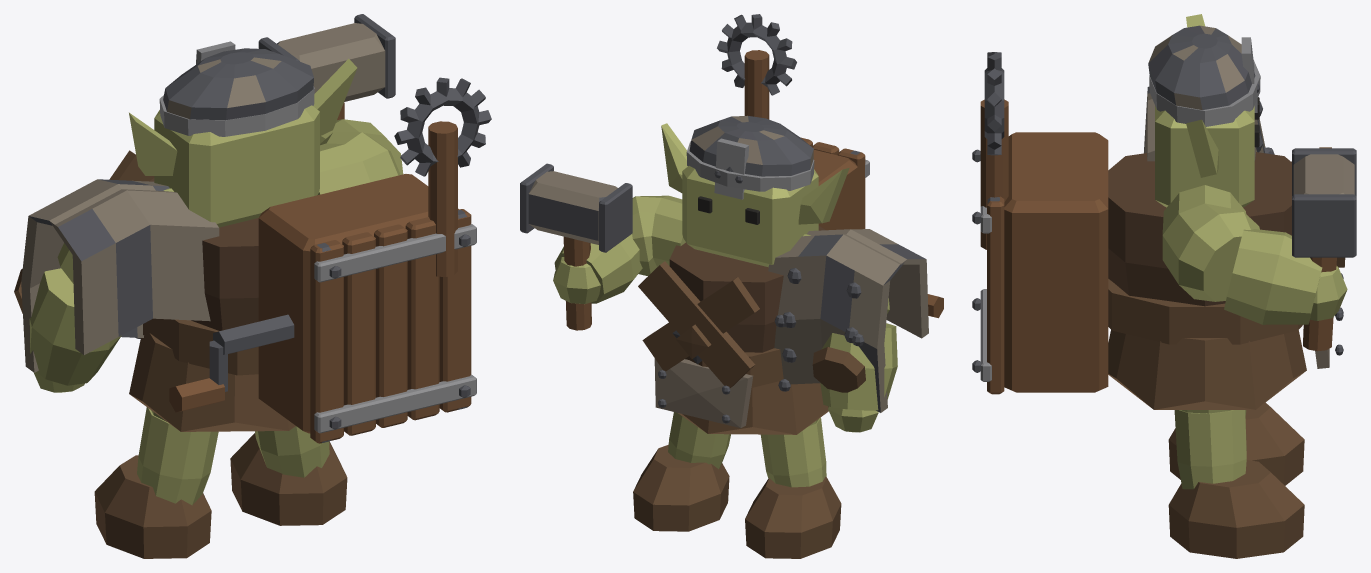
The model's file is host_04.glb.
3 views of the same model, side by side, from view 1: azimuth 30°, elevation 25°; view 2: azimuth 150°, elevation 25°; view 3: azimuth 270°, elevation 25° (orthographic). The views are drawn at different scales.
Parts seen in each view (by area): view 1: V6 scrap single broad curved rusty rectangular shoulder shel, Actual crooked scrap backpack, Observed face, V6 source fitted rounded metal cap, V6 scrap source squat worn leather boot L, Leather ragged skirt, V6 scrap source squat worn leather boot R, Tailored continuous bodice, V6 scrap actual rear backpack timber board, V6 scrap source broad forearm L, V6 scrap source short thick calf L, V6 scrap actual rear backpack timber board.001 (+20 smaller); view 2: V6 scrap single broad curved rusty rectangular shoulder shel, Observed face, V6 scrap source squat worn leather boot L, V6 scrap source squat worn leather boot R, Tailored continuous bodice, V6 source fitted rounded metal cap, Crossed leather baldric R, V6 scrap solid rectangular rusty steel hammer head, V6 scrap source riveted front loincloth sheetmetal, Leather ragged skirt, V6 scrap source short thick calf L, V6 scrap source broad upper arm R (+20 smaller); view 3: Actual crooked scrap backpack, Leather ragged skirt, Tailored continuous bodice, V6 scrap source squat worn leather boot R, V6 scrap source broad upper arm R, V6 scrap source broad forearm R, V6 source fitted rounded metal cap, Observed face, Continuous leather waist belt, V6 scrap source short thick calf R, V6 scrap hammer worn forged striking face.001, V6 scrap source squat worn leather boot L (+12 smaller).
Part boxes in pixels (x1=…): V6 scrap single broad curved rusty rectangular shoulder shel: x1=21, y1=179, x2=219, y2=372; Actual crooked scrap backpack: x1=258, y1=174, x2=458, y2=433; Observed face: x1=154, y1=105, x2=319, y2=227; V6 source fitted rounded metal cap: x1=163, y1=48, x2=313, y2=120; V6 scrap source squat worn leather boot L: x1=94, y1=455, x2=211, y2=558; Leather ragged skirt: x1=129, y1=333, x2=295, y2=431; V6 scrap source squat worn leather boot R: x1=230, y1=433, x2=347, y2=525; Tailored continuous bodice: x1=149, y1=178, x2=258, y2=330; V6 scrap actual rear backpack timber board: x1=310, y1=240, x2=343, y2=443; V6 scrap source broad forearm L: x1=29, y1=268, x2=121, y2=385; V6 scrap source short thick calf L: x1=137, y1=407, x2=218, y2=505; V6 scrap actual rear backpack timber board.001: x1=342, y1=232, x2=375, y2=435; V6 scrap single broad curved rusty rectangular shoulder shel: x1=768, y1=229, x2=928, y2=412; Observed face: x1=682, y1=166, x2=818, y2=267; V6 scrap source squat worn leather boot L: x1=745, y1=476, x2=841, y2=558; V6 scrap source squat worn leather boot R: x1=633, y1=444, x2=729, y2=531; Tailored continuous bodice: x1=669, y1=226, x2=825, y2=352; V6 source fitted rounded metal cap: x1=689, y1=115, x2=813, y2=176; Crossed leather baldric R: x1=638, y1=261, x2=755, y2=387; V6 scrap solid rectangular rusty steel hammer head: x1=528, y1=171, x2=617, y2=244; V6 scrap source riveted front loincloth sheetmetal: x1=654, y1=358, x2=753, y2=428; Leather ragged skirt: x1=678, y1=381, x2=828, y2=434; V6 scrap source short thick calf L: x1=760, y1=417, x2=826, y2=487; V6 scrap source broad upper arm R: x1=632, y1=195, x2=685, y2=275; Actual crooked scrap backpack: x1=1004, y1=132, x2=1108, y2=392; Leather ragged skirt: x1=1108, y1=330, x2=1306, y2=409; Tailored continuous bodice: x1=1108, y1=152, x2=1291, y2=306; V6 scrap source squat worn leather boot R: x1=1168, y1=460, x2=1304, y2=558; V6 scrap source broad upper arm R: x1=1162, y1=185, x2=1259, y2=301; V6 scrap source broad forearm R: x1=1224, y1=229, x2=1322, y2=324; V6 source fitted rounded metal cap: x1=1148, y1=25, x2=1255, y2=109; Observed face: x1=1155, y1=105, x2=1254, y2=207; Continuous leather waist belt: x1=1108, y1=279, x2=1302, y2=344; V6 scrap source short thick calf R: x1=1174, y1=410, x2=1246, y2=489; V6 scrap hammer worn forged striking face.001: x1=1292, y1=194, x2=1356, y2=257; V6 scrap source squat worn leather boot L: x1=1168, y1=402, x2=1304, y2=485.
Bounding box in the file's own units: 0.912 × 1.12 × 0.7852.
